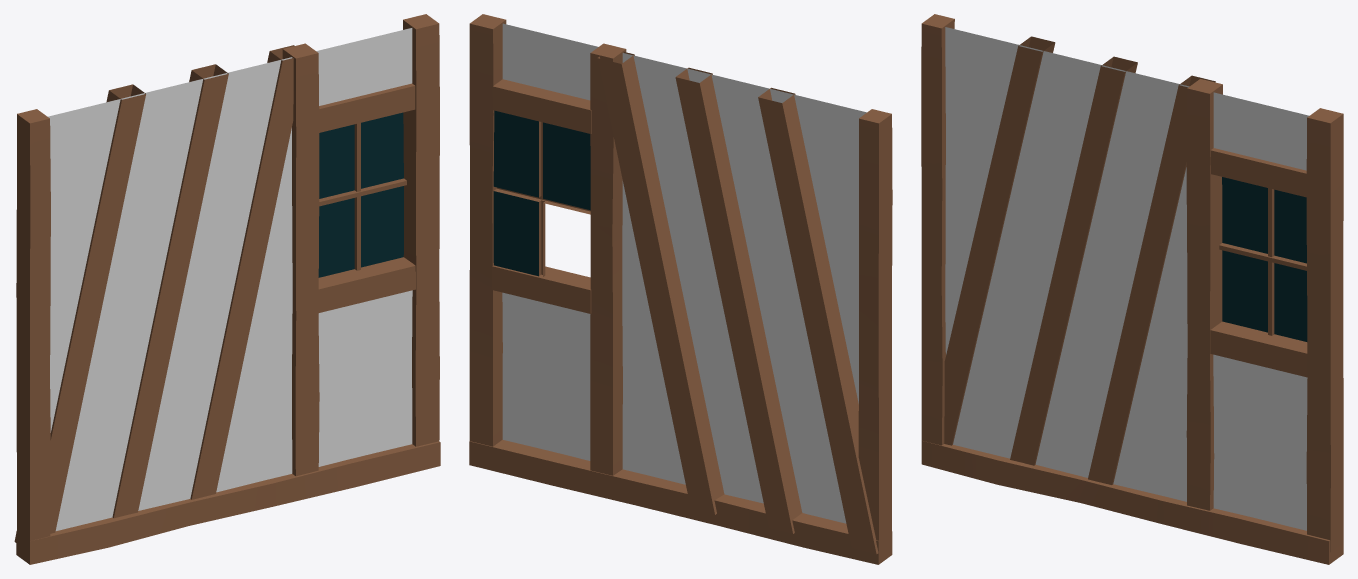
The model's file is PlasterWallWindow2.fbx.
3 views of the same model, side by side, from view 1: azimuth 30°, elevation 25°; view 2: azimuth 150°, elevation 25°; view 3: azimuth 330°, elevation 25° (orthographic).
Visible parts, largest first — view 1: PlasterWallWindow2; view 2: PlasterWallWindow2; view 3: PlasterWallWindow2.
Boxes of the visible parts, x1=… form: PlasterWallWindow2: x1=14, y1=14, x2=440, y2=564; PlasterWallWindow2: x1=469, y1=14, x2=892, y2=564; PlasterWallWindow2: x1=921, y1=14, x2=1343, y2=564.
Bounding box in the file's own units: 200 × 206 × 14.6.
